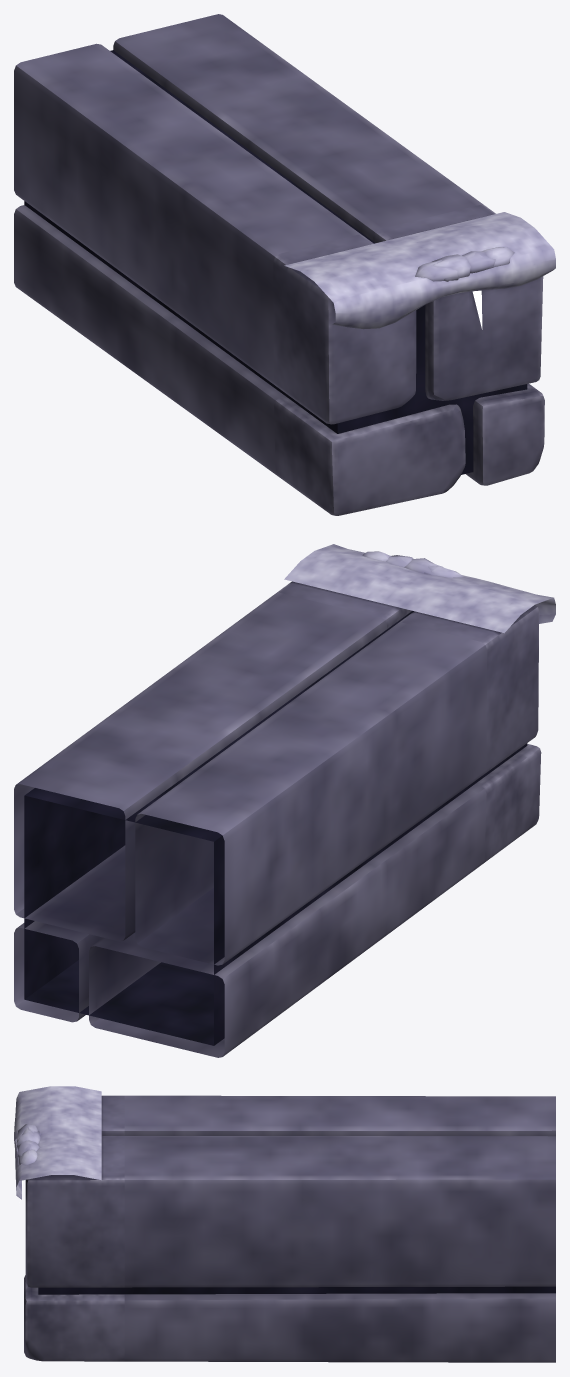
Rendered from Promenade_Top_B.fbx.
The picture shows the model from 3 angles, top to bottom: view 1: azimuth 30°, elevation 25°; view 2: azimuth 150°, elevation 25°; view 3: azimuth 270°, elevation 25°; orthographic projection. The views are drawn at different scales.
Visible parts, largest first — view 1: Promenade_Top_B; view 2: Promenade_Top_B; view 3: Promenade_Top_B.
Boxes of the visible parts, x1,y1,x2,y2 form: Promenade_Top_B: (14,14,555,515); Promenade_Top_B: (14,544,555,1057); Promenade_Top_B: (14,1086,555,1362).
Bounding box in the file's own units: 1 × 1.03 × 2.58.
